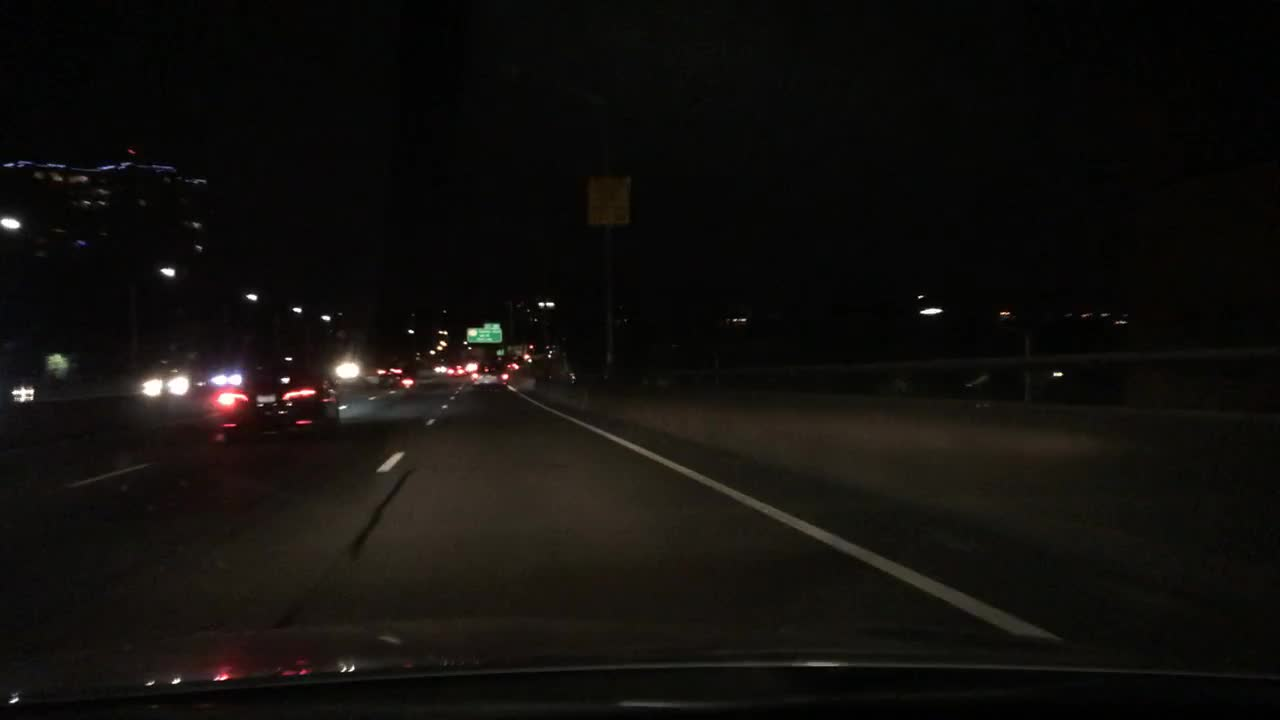car: (212, 368, 344, 442), (138, 366, 189, 400), (472, 356, 509, 390), (374, 364, 413, 391), (211, 368, 246, 391), (332, 356, 361, 374), (444, 361, 467, 378), (503, 358, 521, 371), (462, 358, 477, 373)
traffic sign: (587, 172, 629, 226), (466, 328, 501, 343), (483, 321, 498, 329)
